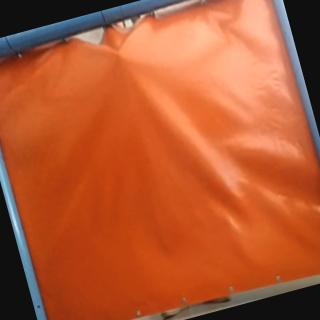Hit-hRxx: (109, 46, 123, 61)
